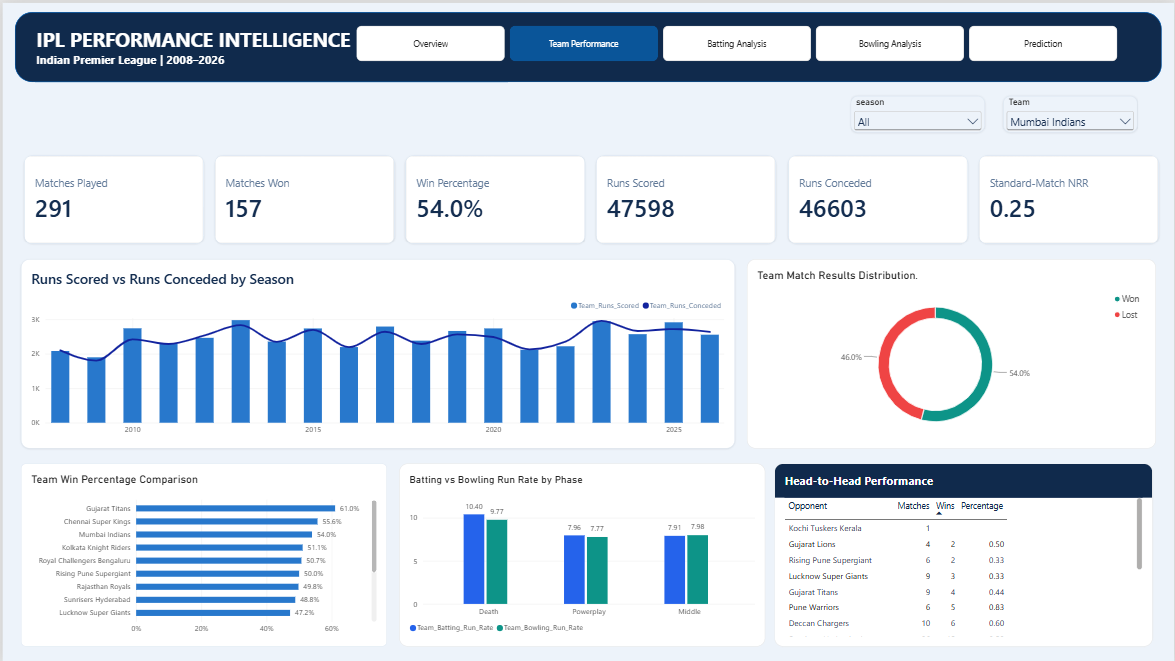

This screenshot's page, from the dashboard's own definition file:
{"tool":"powerbi","page":{"name":"Team Performance","canvas":[1920,1080],"ordinal":1},"visuals":[{"type":"shape","box":[20,15,1880,115],"z":0},{"type":"textbox","box":[55,37,1834.4,93.3],"z":1000},{"type":"pageNavigator","box":[580,38,1250,58],"z":2000},{"type":"slicer","fields":{"Values":["ipl_matches.season"]},"box":[1390,153,220,60],"z":3000},{"type":"slicer","fields":{"Values":["Teams.Team"]},"box":[1640,153,220,60],"z":4000},{"type":"cardVisual","fields":{"Data":["Innings_Summary.Standard_Match_NRR"]},"box":[1599.6,250.7,295,145],"z":5000},{"type":"cardVisual","fields":{"Data":["ipl_ball_ball.Team_Runs_Scored"]},"box":[973.6,250.7,295,145],"z":6000},{"type":"cardVisual","fields":{"Data":["ipl_matches.Team_Matches_Played"]},"box":[34.6,250.7,295,145],"z":7000},{"type":"cardVisual","fields":{"Data":["ipl_matches.Team_Win_Percentage"]},"box":[660.6,250.7,295,145],"z":8000},{"type":"cardVisual","fields":{"Data":["ipl_ball_ball.Team_Runs_Conceded"]},"box":[1286.6,250.7,295,145],"z":9000},{"type":"cardVisual","fields":{"Data":["ipl_matches.Team_Matches_Won"]},"box":[347.6,250.7,295,145],"z":10000},{"type":"lineClusteredColumnComboChart","title":"Runs Scored vs Runs Conceded by Season","fields":{"Category":["ipl_matches.season"],"Y":["ipl_ball_ball.Team_Runs_Scored"],"Y2":["ipl_ball_ball.Team_Runs_Conceded"]},"box":[30,420,1170,310],"z":11000},{"type":"donutChart","title":"Team Match Results Distribution.","fields":{"Category":["Match_Outcomes.Outcome"],"Y":["ipl_matches.Team_Match_Outcome_Count"]},"box":[1220,420,670,310],"z":12000},{"type":"clusteredBarChart","title":"Team Win Percentage Comparison","fields":{"Category":["Teams_Comparison.Team"],"Y":["ipl_matches.Team_Win_Pct_Comparison_Fixed"]},"box":[30,755,600,300],"z":13000},{"type":"clusteredColumnChart","title":"Batting vs Bowling Run Rate by Phase","fields":{"Category":["ipl_ball_ball.phase"],"Y":["ipl_ball_ball.Team_Batting_Run_Rate","ipl_ball_ball.Team_Bowling_Run_Rate"]},"box":[650,755,600,300],"z":14000},{"type":"tableEx","title":"Head-to-Head Performance","fields":{"Values":["Opponents.Opponent","ipl_matches.H2H_Matches","ipl_matches.H2H_Wins","ipl_matches.H2H_Win_Pct"]},"box":[1265,755,620,300],"z":15000}]}

Visuals, with their boxes in screenshot pixels (x1, y1, x2, y2), scaled from the page's 1920x1080 canvas onto the 1175x661 screenshot:
shape: (left=12, top=9, right=1163, bottom=80)
textbox: (left=34, top=23, right=1156, bottom=80)
pageNavigator: (left=355, top=23, right=1120, bottom=59)
slicer - ipl_matches.season: (left=851, top=94, right=985, bottom=130)
slicer - Teams.Team: (left=1004, top=94, right=1138, bottom=130)
cardVisual - Innings_Summary.Standard_Match_NRR: (left=979, top=153, right=1159, bottom=242)
cardVisual - ipl_ball_ball.Team_Runs_Scored: (left=596, top=153, right=776, bottom=242)
cardVisual - ipl_matches.Team_Matches_Played: (left=21, top=153, right=202, bottom=242)
cardVisual - ipl_matches.Team_Win_Percentage: (left=404, top=153, right=585, bottom=242)
cardVisual - ipl_ball_ball.Team_Runs_Conceded: (left=787, top=153, right=968, bottom=242)
cardVisual - ipl_matches.Team_Matches_Won: (left=213, top=153, right=393, bottom=242)
"Runs Scored vs Runs Conceded by Season" lineClusteredColumnComboChart: (left=18, top=257, right=734, bottom=447)
"Team Match Results Distribution." donutChart: (left=747, top=257, right=1157, bottom=447)
"Team Win Percentage Comparison" clusteredBarChart: (left=18, top=462, right=386, bottom=646)
"Batting vs Bowling Run Rate by Phase" clusteredColumnChart: (left=398, top=462, right=765, bottom=646)
"Head-to-Head Performance" tableEx: (left=774, top=462, right=1154, bottom=646)
